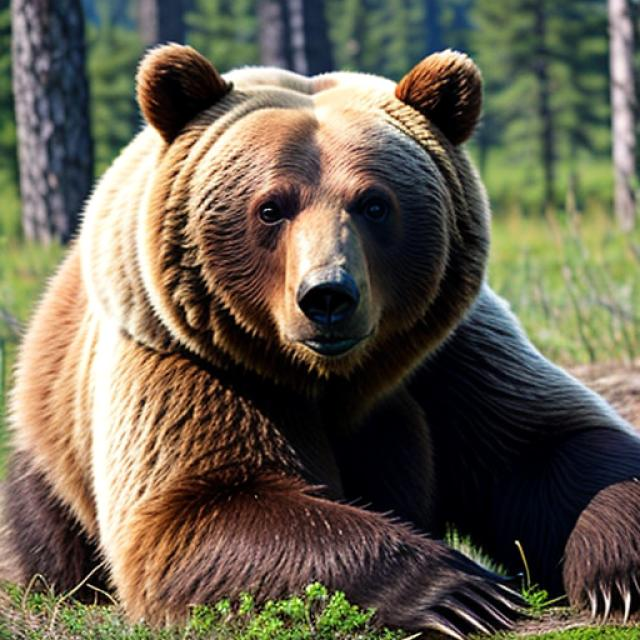bear: (120, 60, 513, 376)
